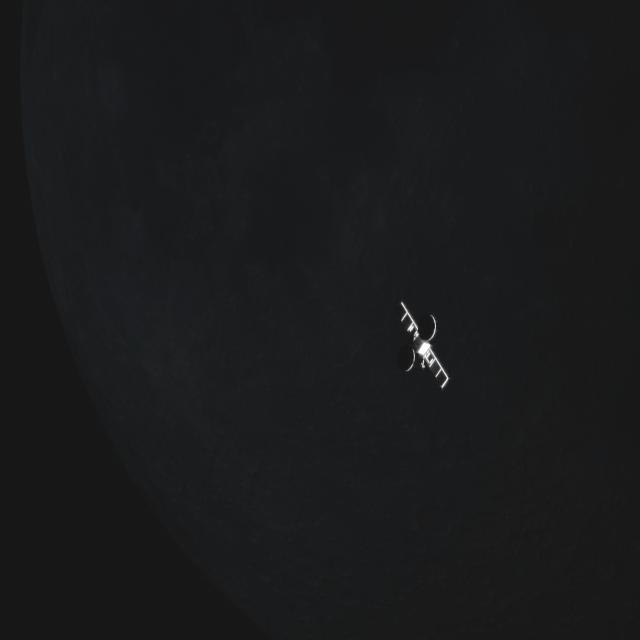satellite: (384, 284, 459, 392)
